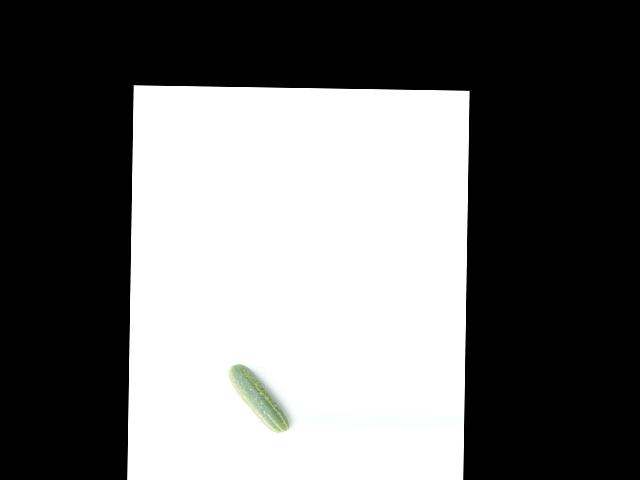cucumber: (227, 364, 291, 433)
